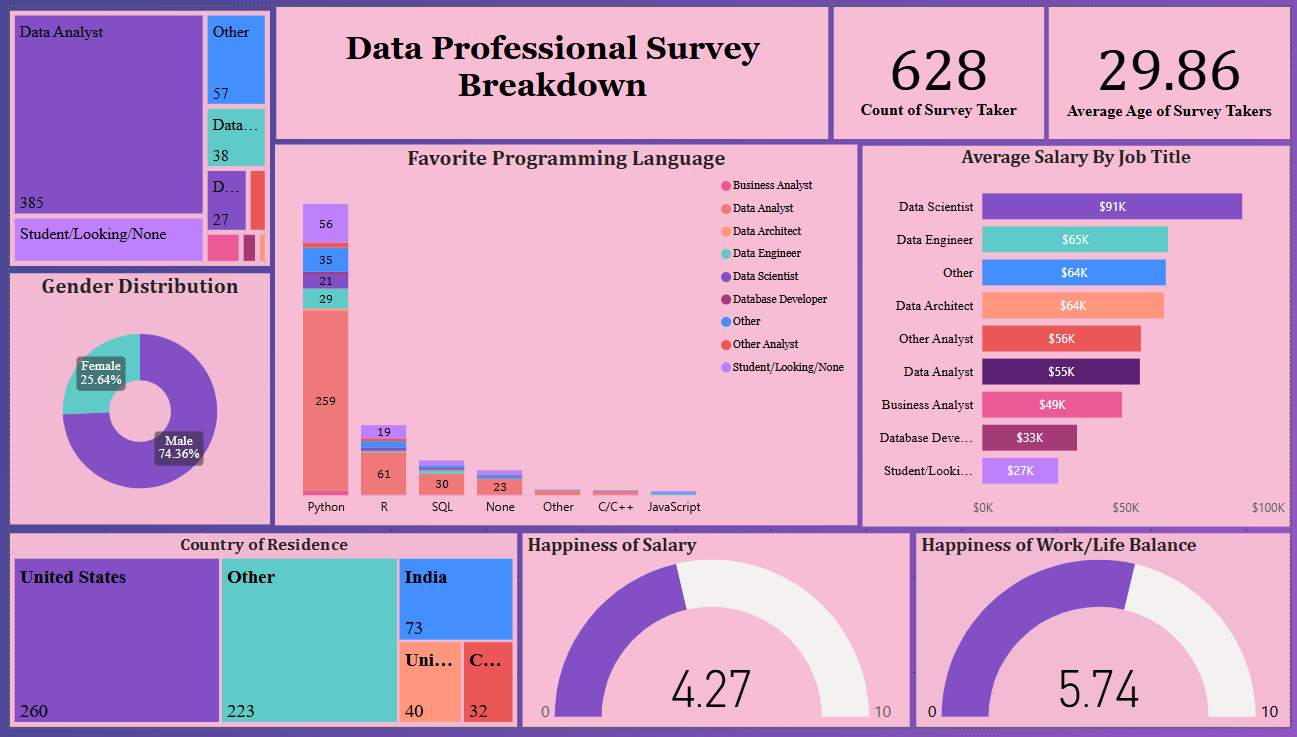

This screenshot's page, from the dashboard's own definition file:
{"tool":"powerbi","page":{"name":"Page 1","canvas":[1280,720],"ordinal":0},"visuals":[{"type":"card","fields":{"Values":["CountNonNull(Data Professional Survey (2).Unique ID)"]},"box":[823.5,0,210,131.7],"z":0},{"type":"card","fields":{"Values":["Avg(Data Professional Survey (2).Q10 - Current Age)"]},"box":[1038.7,0,241.3,132.2],"z":1000},{"type":"barChart","title":"Average Salary By Job Title","fields":{"Category":["Data Professional Survey (2).Q1 - Which Title Best Fits your Current Role?"],"Y":["Avg(Data Professional Survey (2).Average Salary)"],"Series":["Data Professional Survey (2).Q1 - Which Title Best Fits your Current Role?"]},"box":[852.7,138.2,427.3,380.9],"z":2000},{"type":"columnChart","title":"Favorite Programming Language","fields":{"Category":["Data Professional Survey (2).Q5 - Favorite Programming Language"],"Y":["CountNonNull(Data Professional Survey (2).Unique ID)"],"Series":["Data Professional Survey (2).Q1 - Which Title Best Fits your Current Role?"]},"box":[265.5,137.3,582.7,380.9],"z":3000},{"type":"treemap","title":"Country of Residence","fields":{"Group":["Data Professional Survey (2).Q11 - Which Country do you live in?"],"Values":["CountNonNull(Data Professional Survey (2).Q11 - Which Country do you live in?)"]},"box":[0,526.2,507.5,193.8],"z":4000},{"type":"gauge","title":"Happiness of Work/Life Balance ","fields":{"Y":["Avg(Data Professional Survey (2).Q6 - How Happy are you in your Current Position with the following? (Work/Life Balance)"],"MinValue":["Min(Data Professional Survey (2).Q6 - How Happy are you in your Current Position with the following? (Work/Life Balance)"],"MaxValue":["Max(Data Professional Survey (2).Q6 - How Happy are you in your Current Position with the following? (Work/Life Balance)"]},"box":[906.2,526.2,373.8,193.8],"z":5000},{"type":"gauge","title":"Happiness of Salary","fields":{"Y":["Avg(Data Professional Survey (2).Q6 - How Happy are you in your Current Position with the following? (Salary))"],"MinValue":["Min(Data Professional Survey (2).Q6 - How Happy are you in your Current Position with the following? (Salary))"],"MaxValue":["Max(Data Professional Survey (2).Q6 - How Happy are you in your Current Position with the following? (Salary))"]},"box":[512.5,526.2,387.5,193.8],"z":6000},{"type":"donutChart","title":"Gender Distribution","fields":{"Category":["Data Professional Survey (2).Q9 - Male/Female?"],"Y":["CountNonNull(Data Professional Survey (2).Unique ID)"]},"box":[0,266.4,260,250.9],"z":7000},{"type":"treemap","title":"Country of Residence","fields":{"Group":["Data Professional Survey (2).Q1 - Which Title Best Fits your Current Role?"],"Values":["CountNonNull(Data Professional Survey (2).Q1 - Which Title Best Fits your Current Role?)"]},"box":[0,4,260,255.3],"z":8000},{"type":"textbox","box":[266.1,0,552.2,132.2],"z":8001}]}

Visuals, with their boxes in screenshot pixels (x1, y1, x2, y2), scaled from the page's 1280x720 canvas onto the 1297x737 screenshot:
card - CountNonNull(Data Professional Survey (2).Unique ID): 834, 0, 1047, 135
card - Avg(Data Professional Survey (2).Q10 - Current Age): 1052, 0, 1296, 135
"Average Salary By Job Title" barChart: 864, 141, 1296, 531
"Favorite Programming Language" columnChart: 269, 141, 859, 530
"Country of Residence" treemap: 0, 539, 514, 736
"Happiness of Work/Life Balance " gauge: 918, 539, 1296, 736
"Happiness of Salary" gauge: 519, 539, 912, 736
"Gender Distribution" donutChart: 0, 273, 263, 530
"Country of Residence" treemap: 0, 4, 263, 265
textbox: 270, 0, 829, 135
